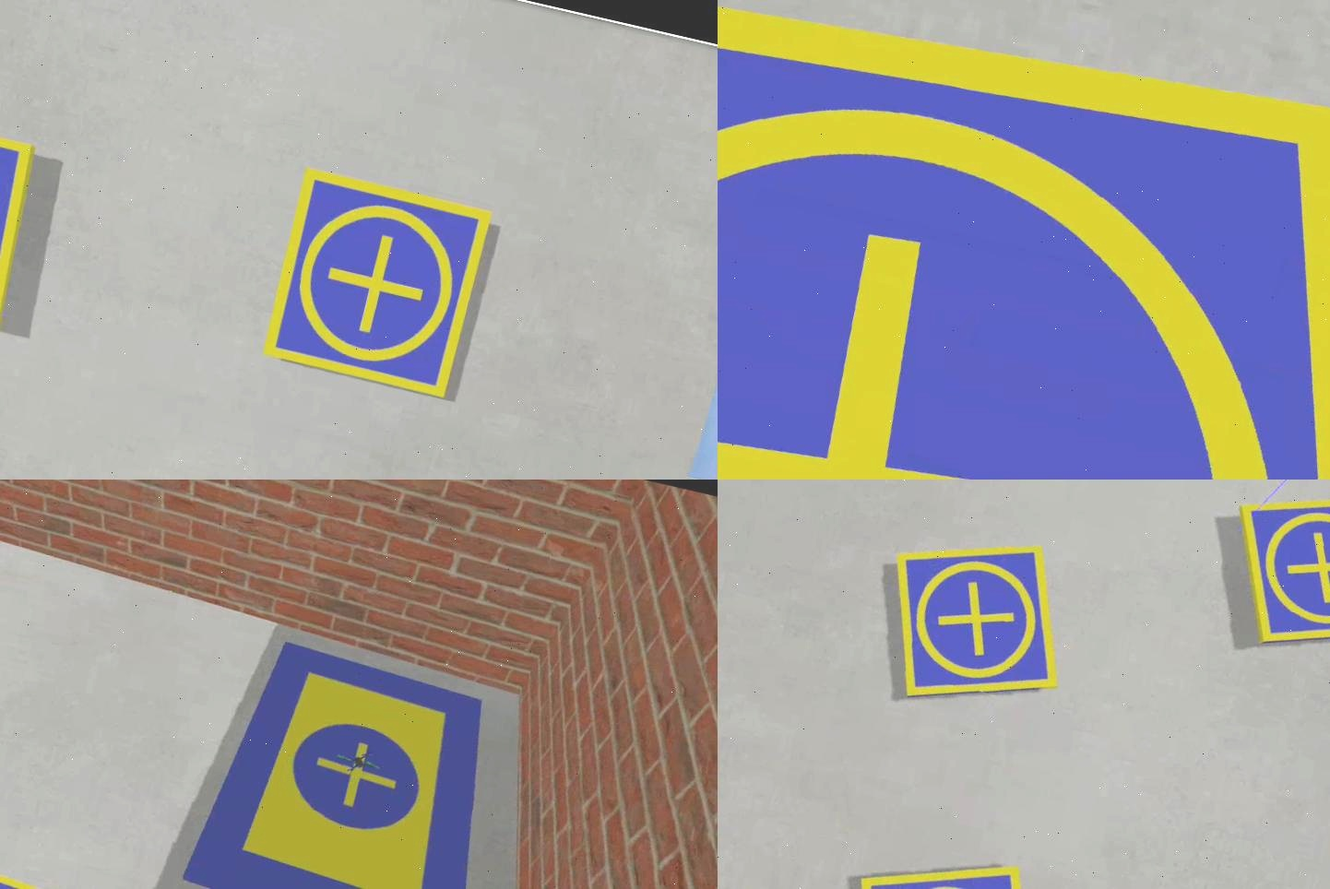large_base: (176, 623, 530, 889)
small_base: (718, 1, 1330, 480), (261, 163, 495, 398), (868, 513, 1087, 730), (1211, 480, 1330, 677), (822, 828, 1068, 889)
